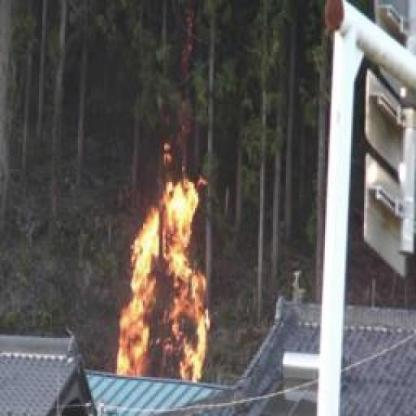fire: (102, 125, 216, 381)
